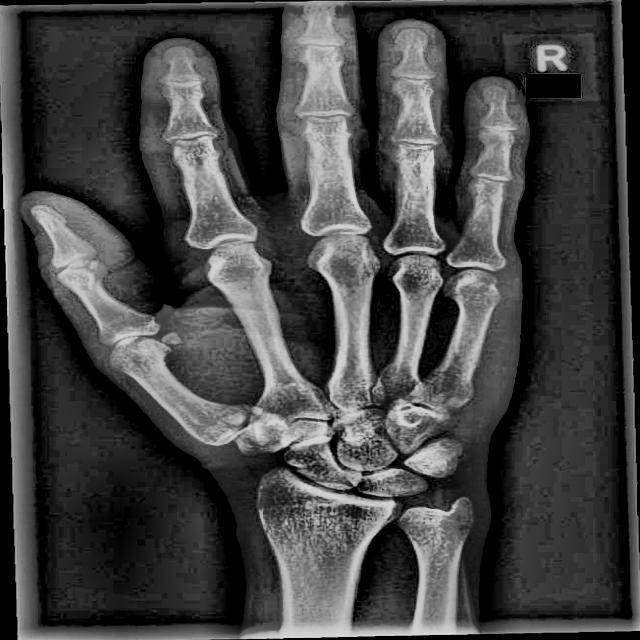fracture: (216, 400, 274, 434), (75, 258, 106, 284), (392, 400, 419, 414)
